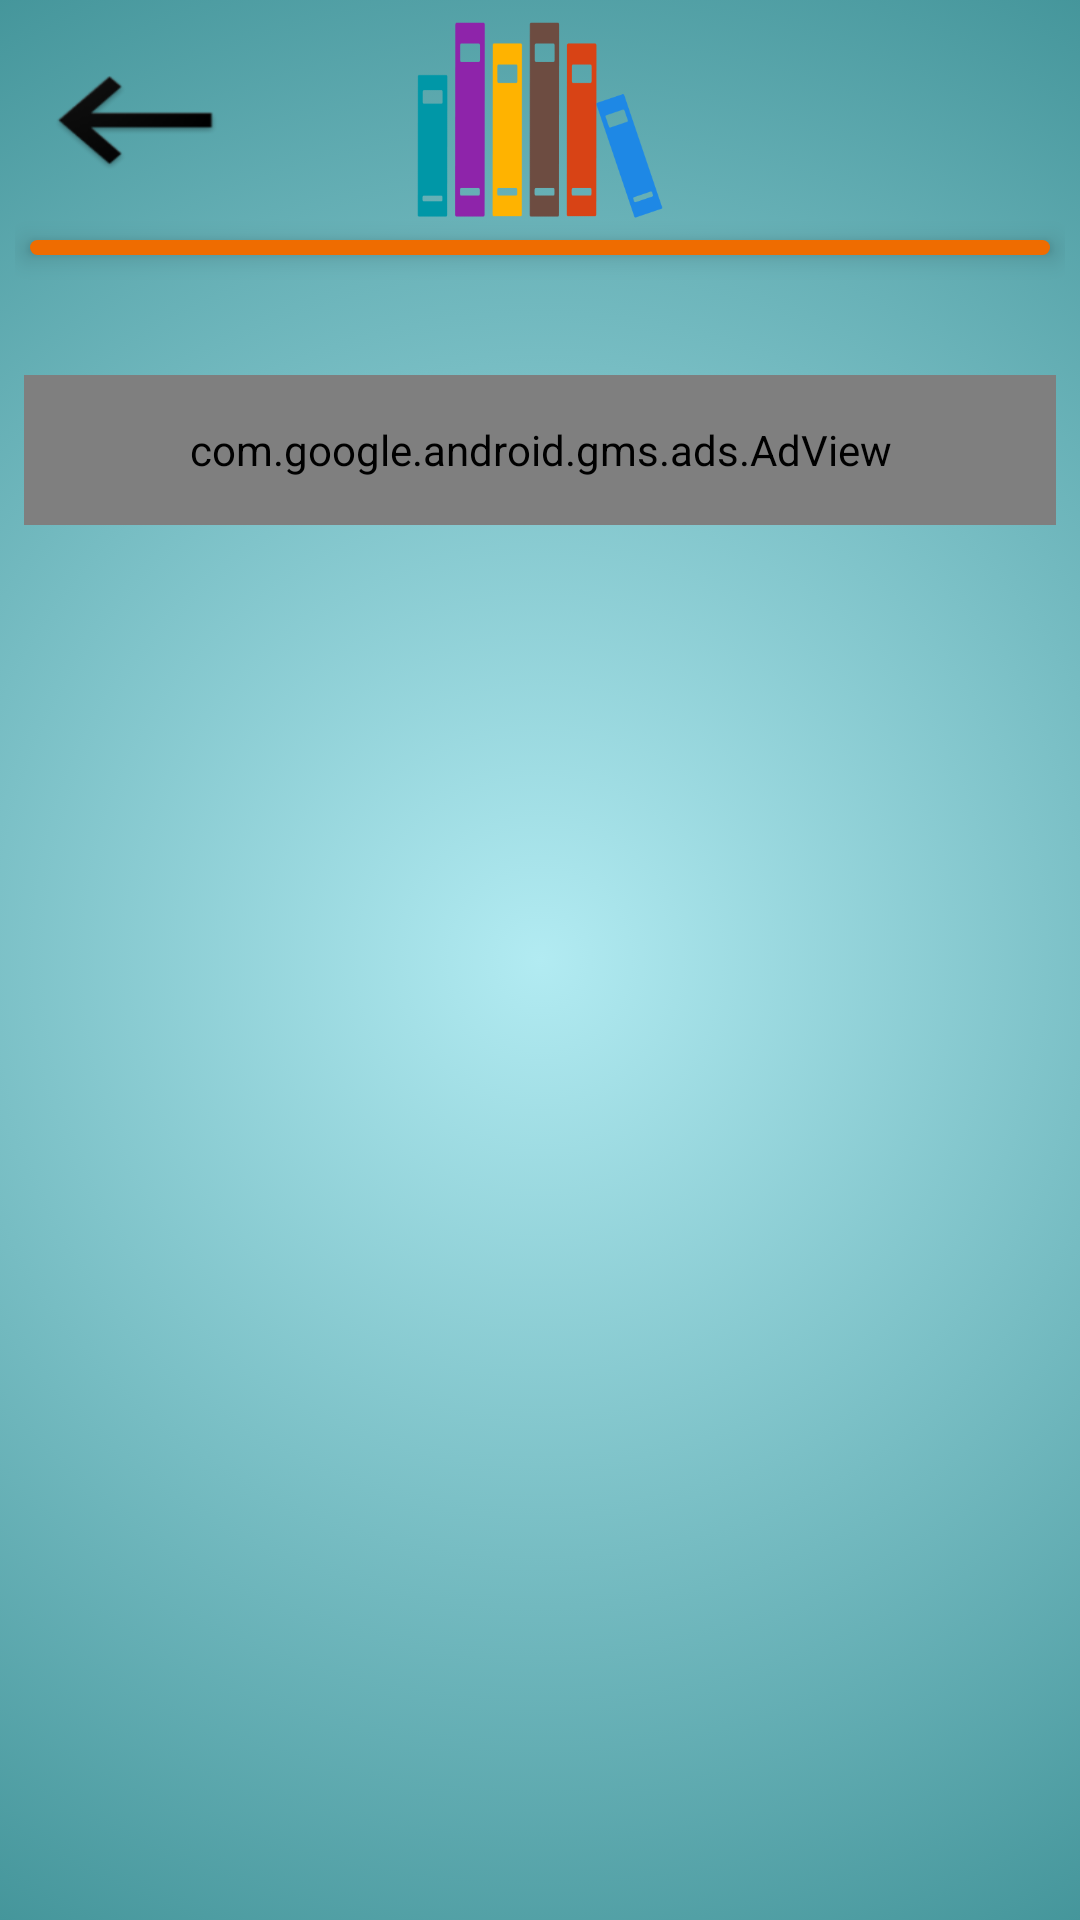

Icons on this 1080×1920 Android screen, each with the point to tap as (x=x, y=y):
graphic book: (x=540, y=120)
